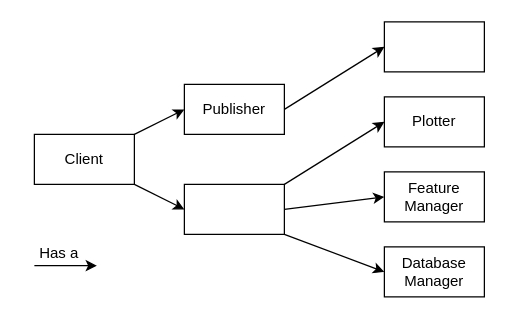
The diagram is 506 pixels wide and 319 high, and some of its shapes have lost their labels. Here are the shapes that lost their labels. From the top down, the centre of each, then its label:
At (x=433, y=46): "Audio Recorder".
At (x=233, y=208): "Subscriber".
